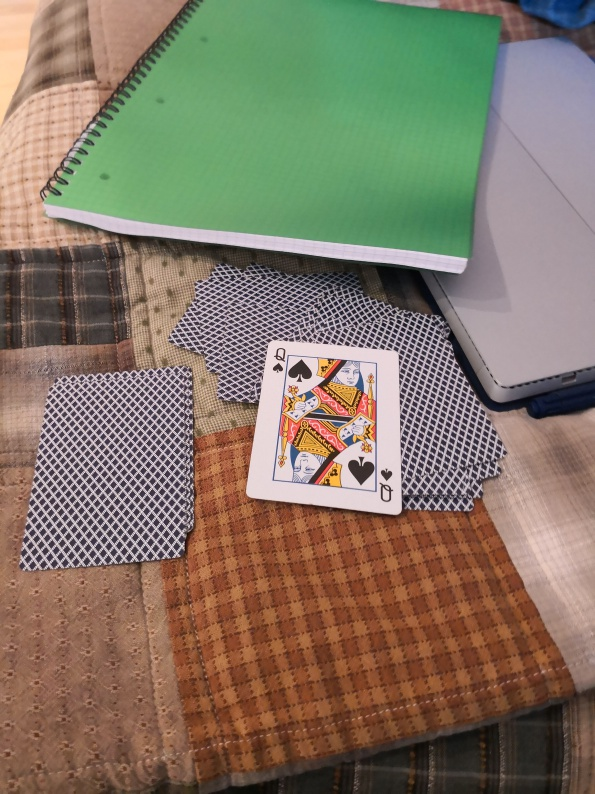queen: (245, 339, 403, 517)
